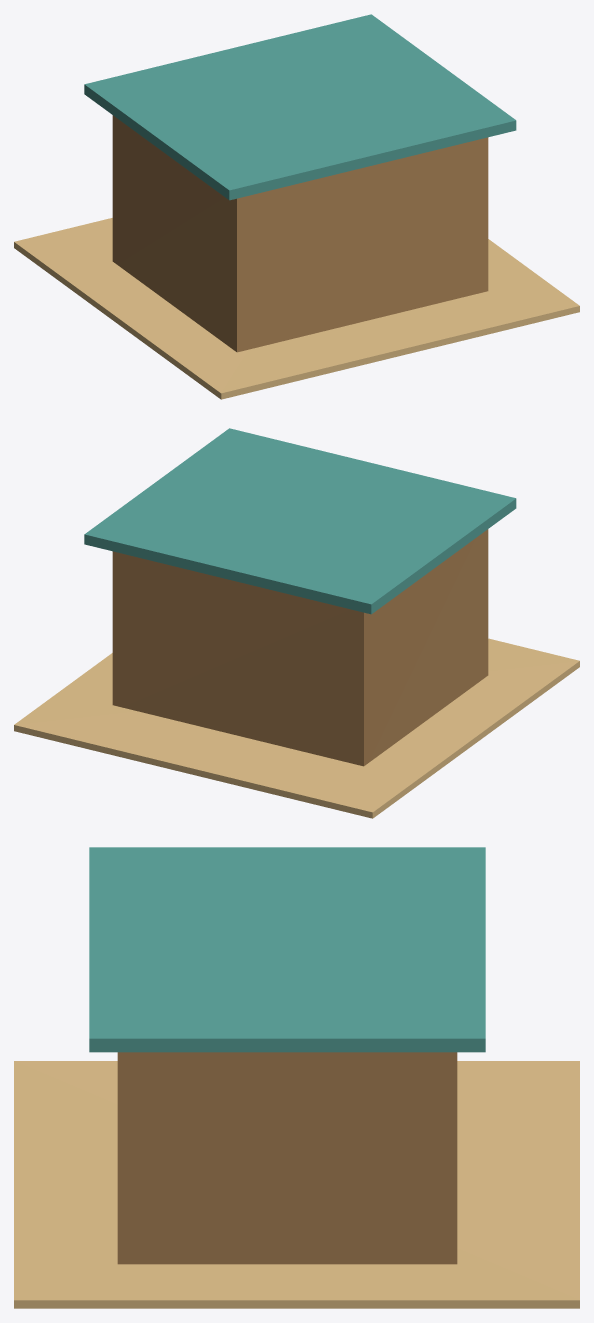
Rendered from insulated-barn.source.glb.
3 views of the same model, one above another, from view 1: azimuth 30°, elevation 25°; view 2: azimuth 150°, elevation 25°; view 3: azimuth 270°, elevation 25° (orthographic). The views are drawn at different scales.
Parts seen in each view (by area): view 1: insulated-barn-body-mesh, insulated-barn-roof-mesh, insulated-barn-base-mesh; view 2: insulated-barn-body-mesh, insulated-barn-roof-mesh, insulated-barn-base-mesh; view 3: insulated-barn-roof-mesh, insulated-barn-body-mesh, insulated-barn-base-mesh.
Boxes of the visible parts, box(x1,y1,x2,y2) form: insulated-barn-body-mesh: box(112, 115, 488, 352); insulated-barn-roof-mesh: box(84, 14, 516, 200); insulated-barn-base-mesh: box(14, 218, 579, 399); insulated-barn-body-mesh: box(112, 529, 488, 766); insulated-barn-roof-mesh: box(84, 428, 516, 614); insulated-barn-base-mesh: box(14, 638, 579, 818); insulated-barn-roof-mesh: box(89, 847, 485, 1052); insulated-barn-body-mesh: box(117, 1052, 457, 1264); insulated-barn-base-mesh: box(14, 1061, 579, 1308).
Size of the model in its own units: 6 by 2.88 by 6.
